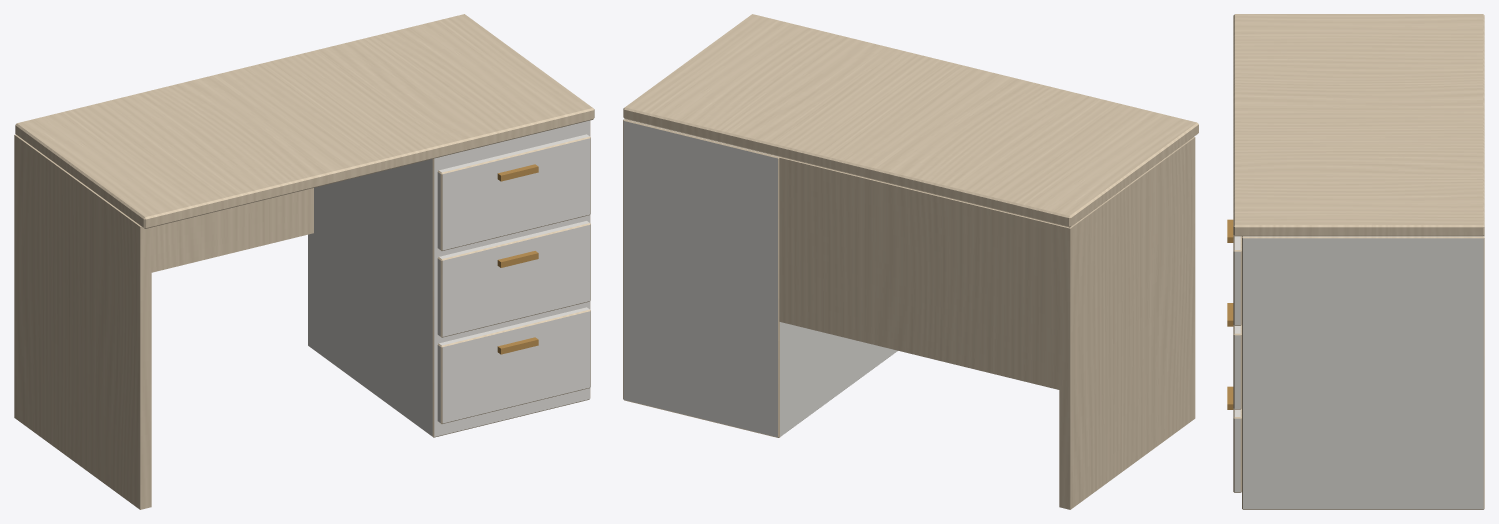
The model's file is desk.glb.
The picture shows the model from 3 angles, left to right: view 1: azimuth 30°, elevation 25°; view 2: azimuth 150°, elevation 25°; view 3: azimuth 270°, elevation 25°; orthographic projection. The views are drawn at different scales.
Parts seen in each view (by area): view 1: desk; view 2: desk; view 3: desk.
Part boxes in pixels (left/top/right/bottom): desk: left=14, top=14, right=594, bottom=509; desk: left=623, top=14, right=1198, bottom=509; desk: left=1227, top=14, right=1484, bottom=509.
Size of the model in its own units: 1.2 by 0.75 by 0.615.
3 materials, 1 textured.
